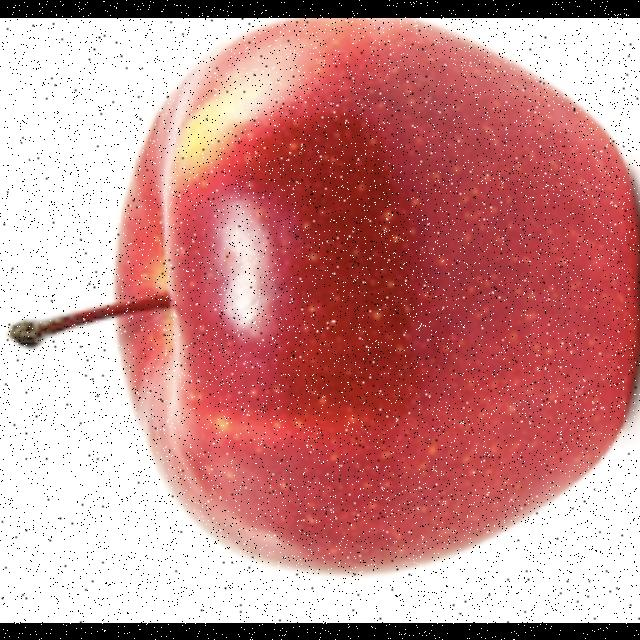Apel Segar: (66, 17, 640, 575)
